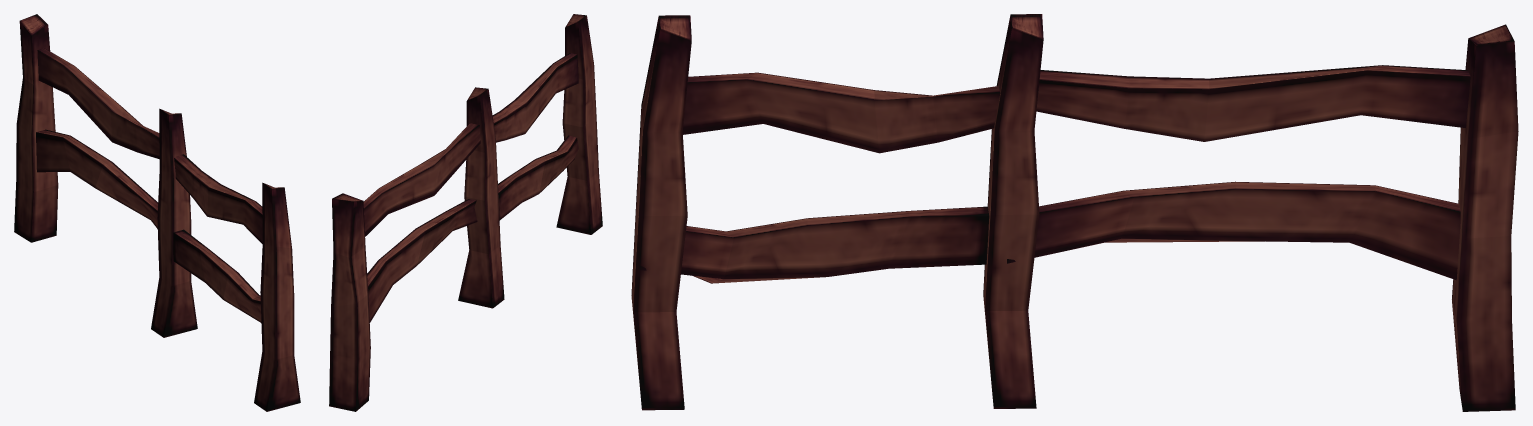
File: fence3.glb
3 renders of one model, left to right at view 1: azimuth 30°, elevation 25°; view 2: azimuth 150°, elevation 25°; view 3: azimuth 270°, elevation 25°, orthographic. The views are drawn at different scales.
Parts seen in each view (by area): view 1: Cube.003, Cube.007, Cube.006, Cube.001, Cube.002, Cube.005, Cube.004; view 2: Cube.007, Cube.006, Cube.003, Cube.001, Cube.002, Cube.004, Cube.005; view 3: Cube.002, Cube.001, Cube.007, Cube.003, Cube.006, Cube.005, Cube.004.
Boxes of the visible parts, box(x1,y1,x2,y2) form: Cube.003: box(254, 182, 300, 411); Cube.007: box(14, 14, 58, 242); Cube.006: box(151, 108, 197, 337); Cube.001: box(37, 48, 159, 159); Cube.002: box(36, 129, 157, 228); Cube.005: box(173, 229, 261, 322); Cube.004: box(174, 154, 262, 243); Cube.007: box(329, 193, 370, 411); Cube.006: box(458, 87, 504, 308); Cube.003: box(556, 14, 602, 234); Cube.001: box(363, 123, 480, 236); Cube.002: box(367, 199, 477, 322); Cube.004: box(492, 53, 578, 142); Cube.005: box(498, 135, 578, 220); Cube.002: box(1007, 181, 1460, 280); Cube.001: box(1036, 65, 1470, 141); Cube.007: box(1452, 24, 1518, 411); Cube.003: box(631, 15, 691, 410); Cube.006: box(983, 14, 1043, 408); Cube.005: box(639, 206, 989, 283); Cube.004: box(682, 72, 1000, 153).
Size of the model in its own units: 0.0887 by 0.508 by 1.07.
Materials: 7 (7 with a texture image).
